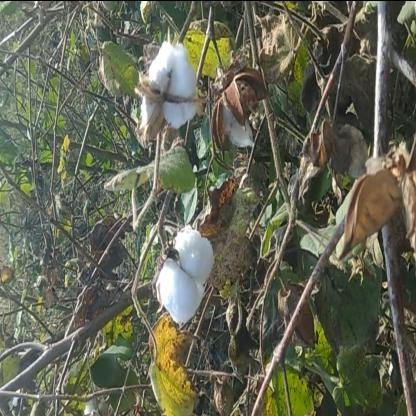cotton_ready: (154, 204, 218, 338), (136, 36, 204, 158)
